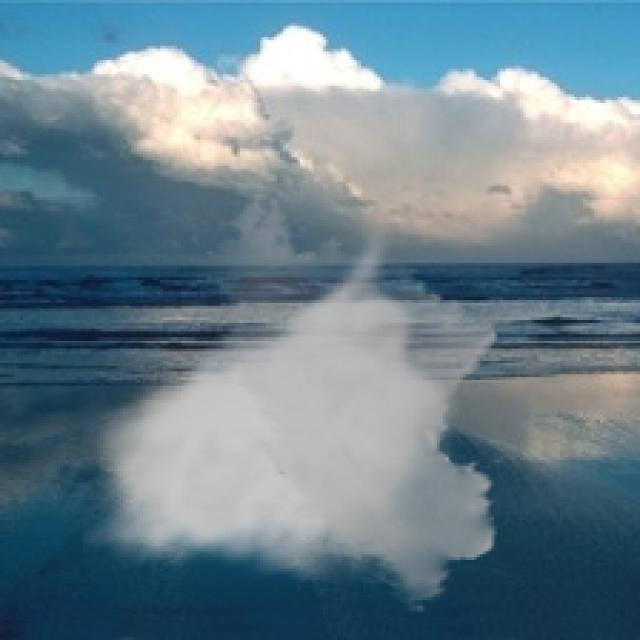Smoke: (82, 188, 508, 614)
